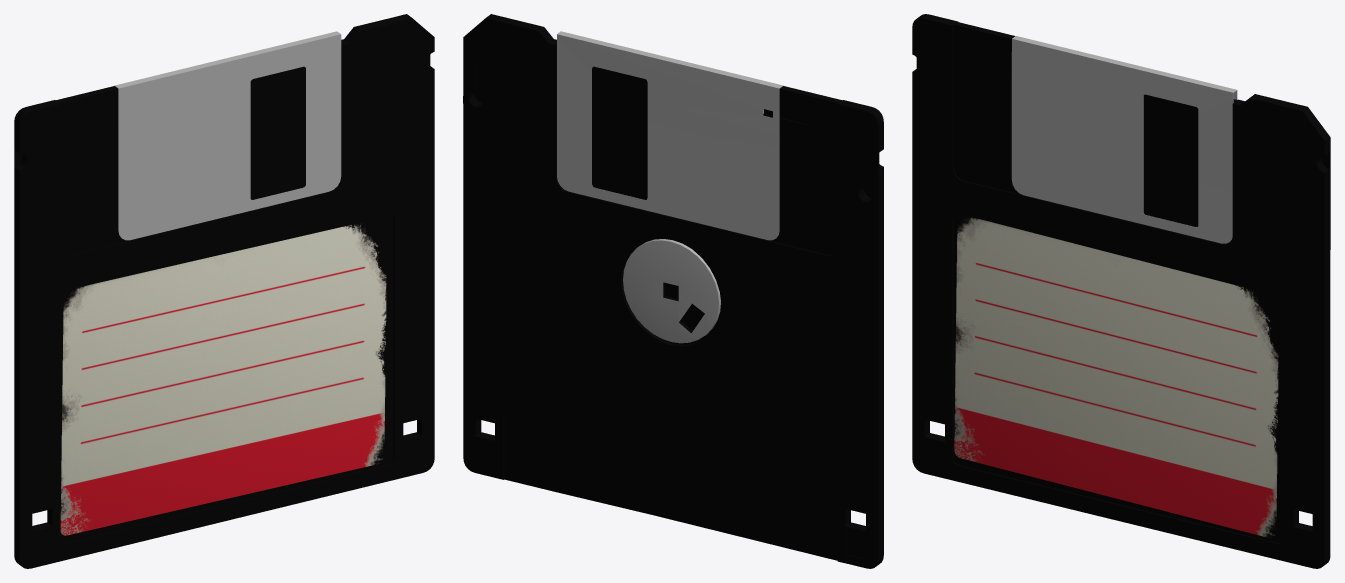
File: floppy-v2.glb
The picture shows the model from 3 angles, left to right: view 1: azimuth 30°, elevation 25°; view 2: azimuth 150°, elevation 25°; view 3: azimuth 330°, elevation 25°; orthographic projection.
Visible parts, largest first — view 1: Cube.003_2, Cube.010_3, Cube.002_1, Curve.005_0; view 2: Cube.003_2, Cube.002_1, Cylinder.002_4; view 3: Cube.003_2, Cube.010_3, Cube.002_1, Curve.005_0.
Part boxes in pixels (x1=…): Cube.003_2: x1=14, y1=14, x2=434, y2=568; Cube.010_3: x1=60, y1=222, x2=386, y2=535; Cube.002_1: x1=114, y1=31, x2=341, y2=240; Curve.005_0: x1=132, y1=85, x2=236, y2=127; Cube.003_2: x1=463, y1=14, x2=883, y2=568; Cube.002_1: x1=557, y1=31, x2=783, y2=240; Cylinder.002_4: x1=623, y1=239, x2=720, y2=343; Cube.003_2: x1=912, y1=14, x2=1330, y2=568; Cube.010_3: x1=954, y1=217, x2=1278, y2=538; Cube.002_1: x1=1011, y1=36, x2=1237, y2=243; Curve.005_0: x1=1025, y1=68, x2=1129, y2=108.
Size of the model in its own units: 2 by 2.11 by 0.0473.
8 materials, 3 textured.
